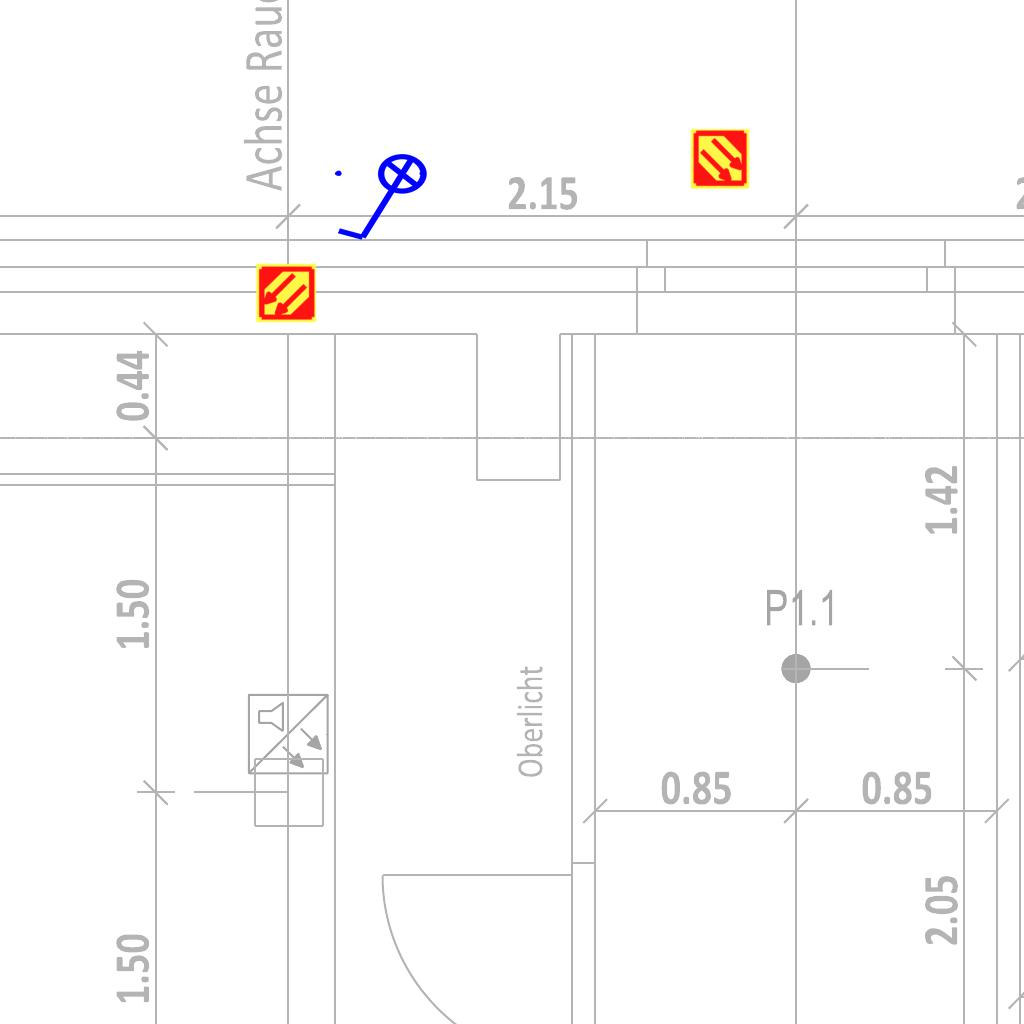ASR_Ansaugrauchmelder: (689, 128, 751, 190), (255, 262, 317, 324)
Ausschalter_beleuchtet: (329, 152, 441, 248)
